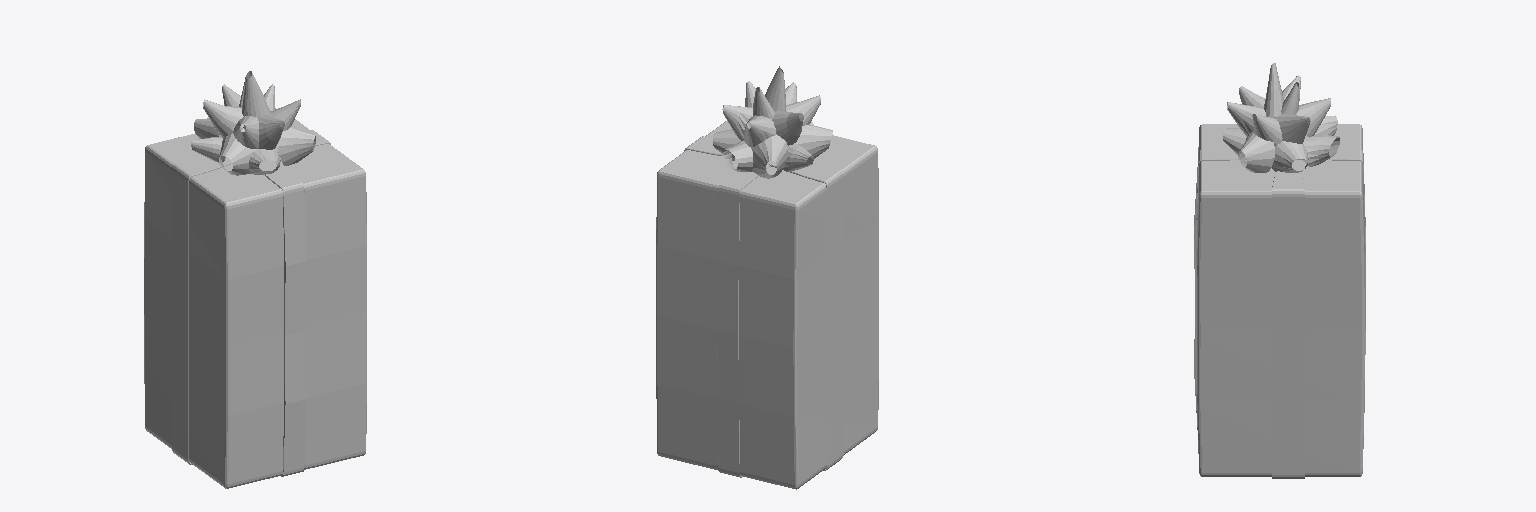
Rendered from present.obj.
3 views of the same model, side by side, from view 1: azimuth 30°, elevation 25°; view 2: azimuth 150°, elevation 25°; view 3: azimuth 270°, elevation 25° (orthographic).
Parts seen in each view (by area): view 1: Present; view 2: Present; view 3: Present.
Part boxes in pixels (bbox=[...]): Present: bbox=[144, 71, 366, 488]; Present: bbox=[656, 66, 878, 489]; Present: bbox=[1194, 63, 1365, 478].
Size of the model in its own units: 0.0676 by 0.1705 by 0.0703.